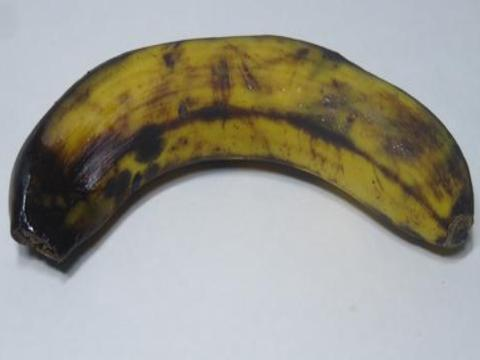overripe: (3, 20, 479, 273)
rotten: (7, 117, 126, 303)
